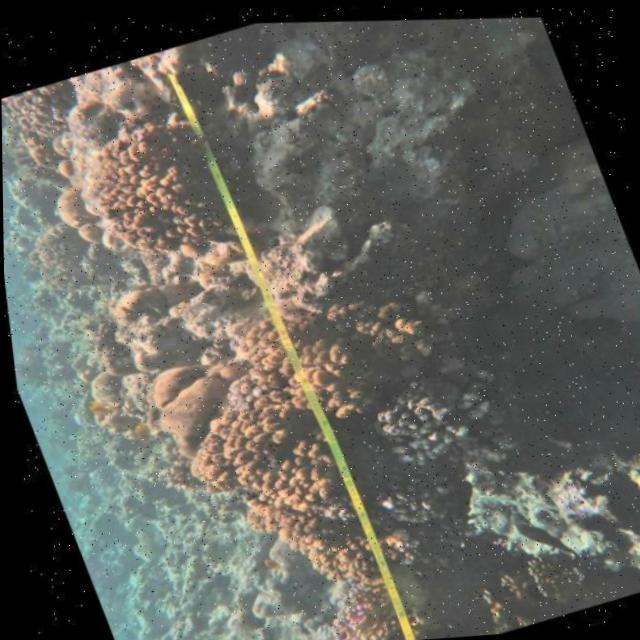Healthy Coral: (150, 269, 514, 623), (65, 94, 252, 290), (1, 65, 111, 183), (300, 568, 420, 640)
